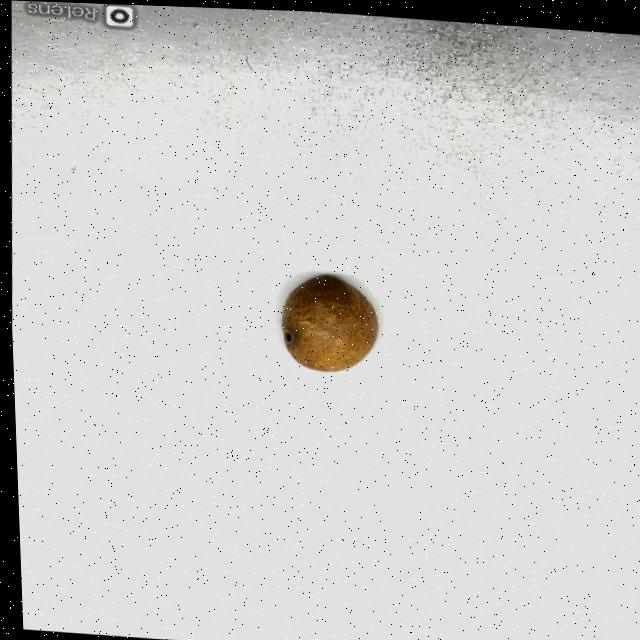Insect damage: (278, 270, 377, 374)
